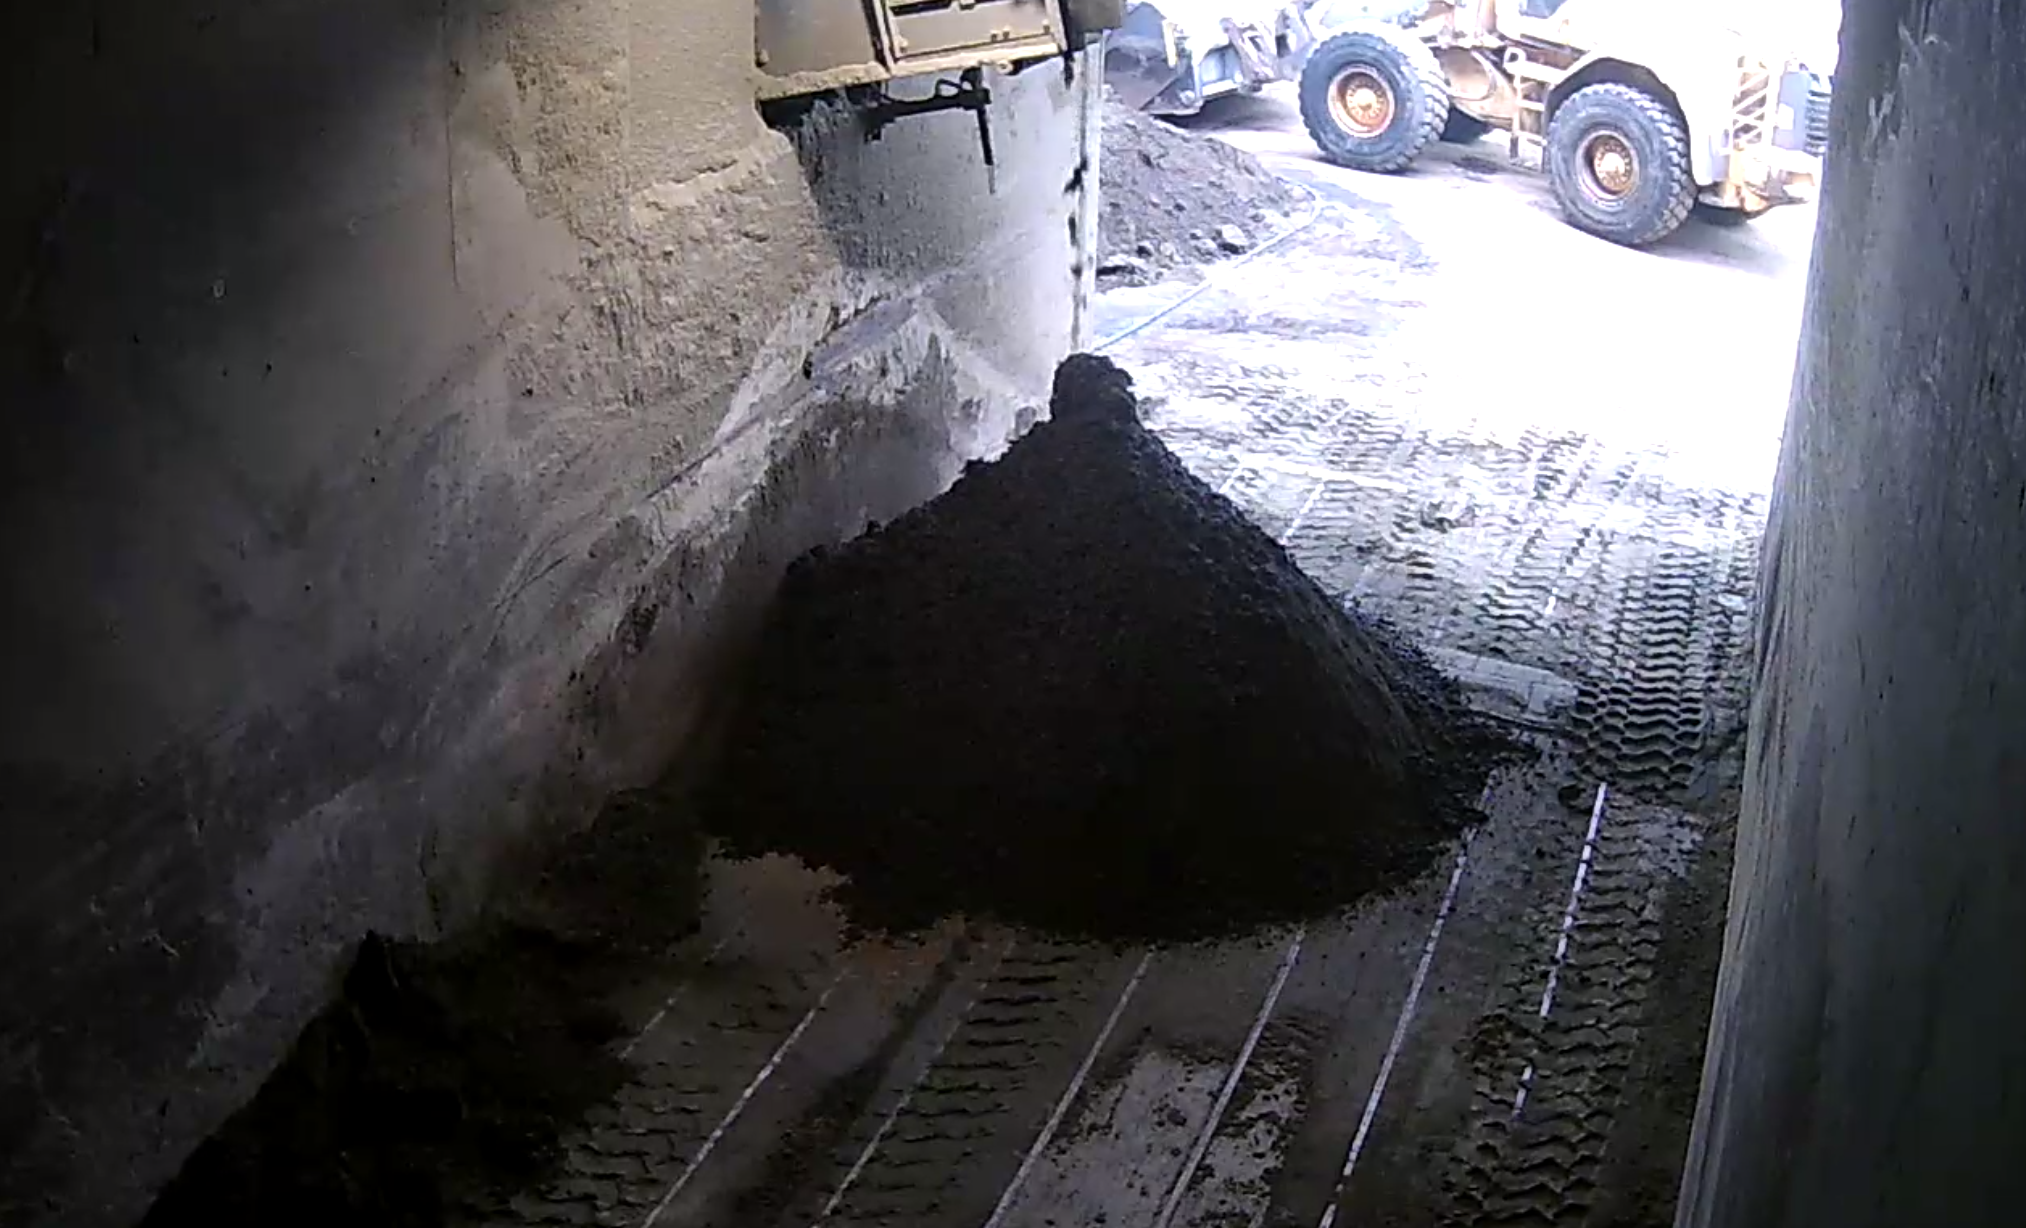pile: (776, 356, 1496, 947)
